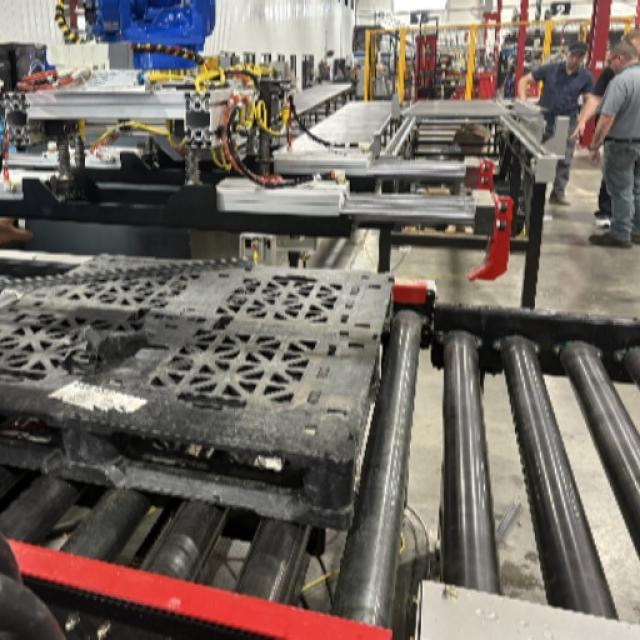igps: (0, 246, 410, 544)
